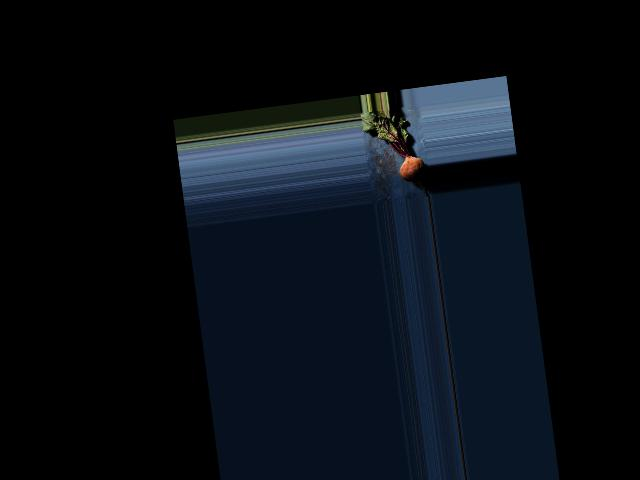beet: (360, 104, 429, 204)
